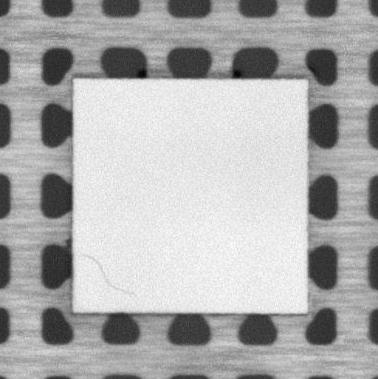DIE_CRACK: (83, 252, 135, 299)
